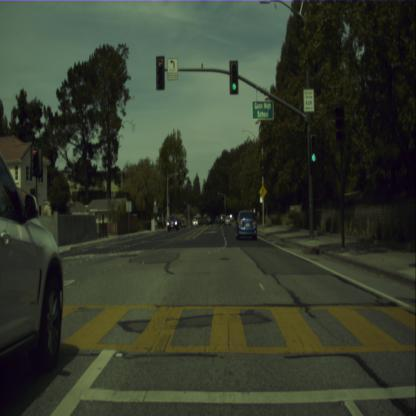Green: (230, 61, 237, 93), (310, 133, 317, 163)
RedLeft: (156, 57, 164, 89), (30, 145, 38, 174)
